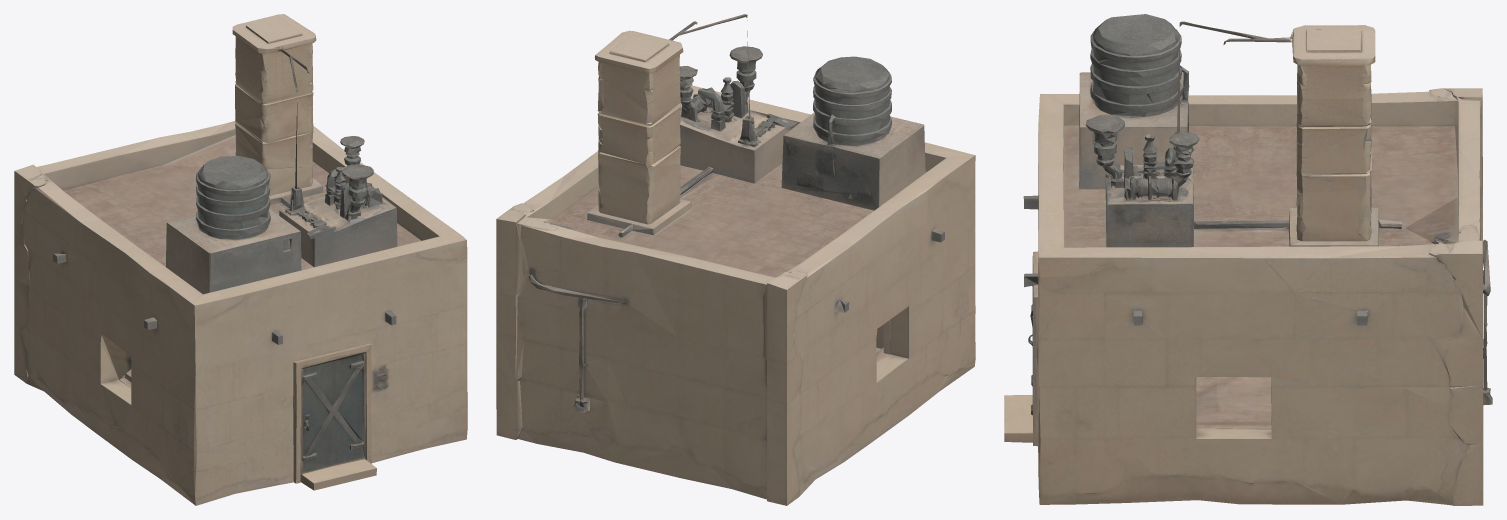
The model's file is concrete.glb.
The picture shows the model from 3 angles, left to right: view 1: azimuth 30°, elevation 25°; view 2: azimuth 150°, elevation 25°; view 3: azimuth 270°, elevation 25°; orthographic projection. The views are drawn at different scales.
Parts seen in each view (by area): view 1: wall, roof; view 2: wall, roof; view 3: wall, roof.
Boxes of the visible parts, bbox=[...] form: wall: bbox=[14, 26, 467, 505]; roof: bbox=[15, 14, 466, 305]; wall: bbox=[496, 15, 975, 505]; roof: bbox=[497, 14, 974, 289]; wall: bbox=[1004, 21, 1492, 505]; roof: bbox=[1038, 14, 1482, 258].
Size of the model in its own units: 7.23 by 8.1 by 8.5.
Materials: 1 (1 with a texture image).
